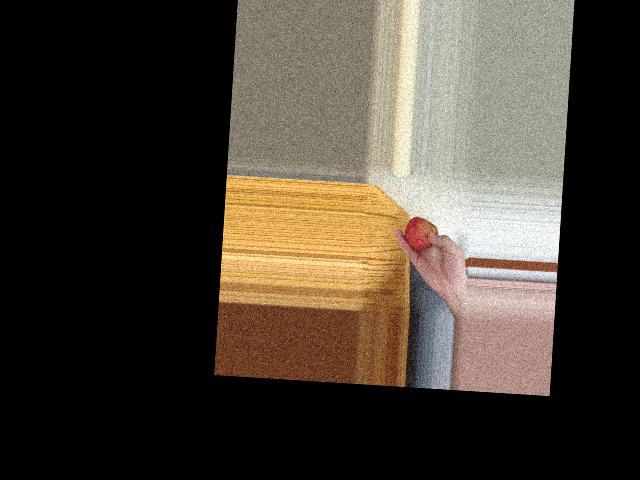apple: (403, 214, 443, 253)
